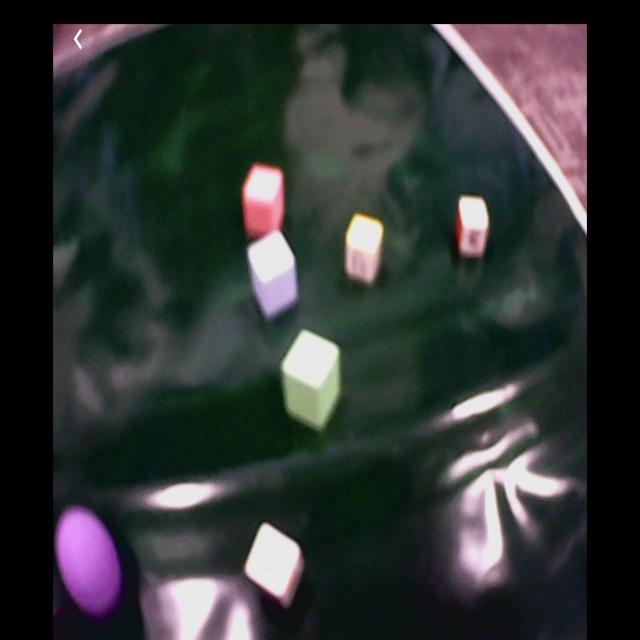ball: (57, 508, 121, 614)
